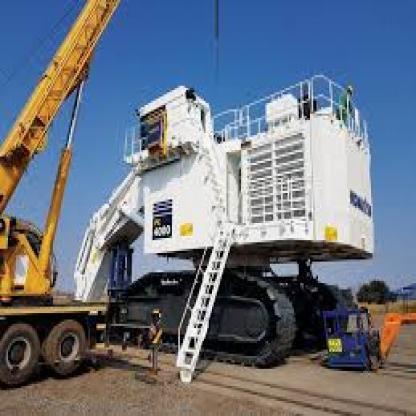excavator: (70, 60, 410, 388)
